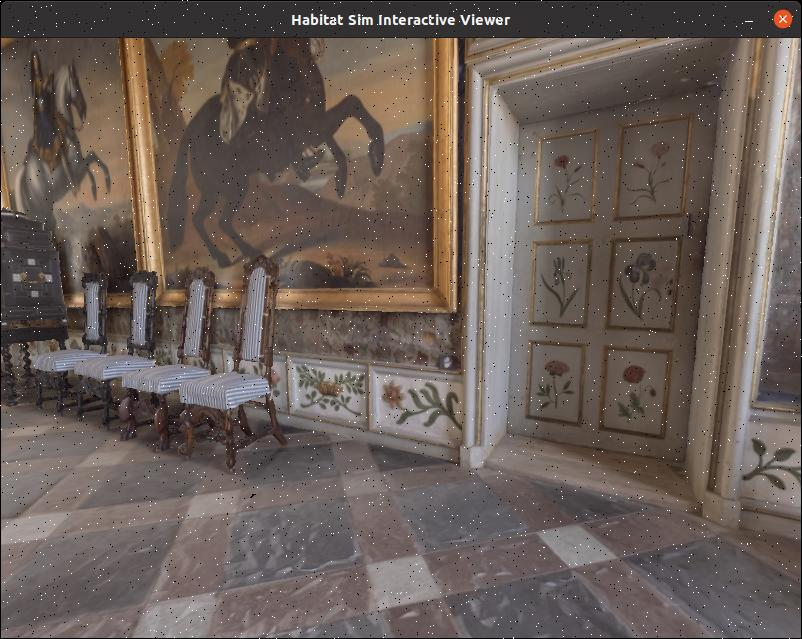chair: (182, 235, 289, 483), (126, 265, 221, 466), (74, 257, 167, 438), (29, 257, 111, 414)
door: (516, 101, 713, 428)
door-frame: (459, 39, 792, 514)
